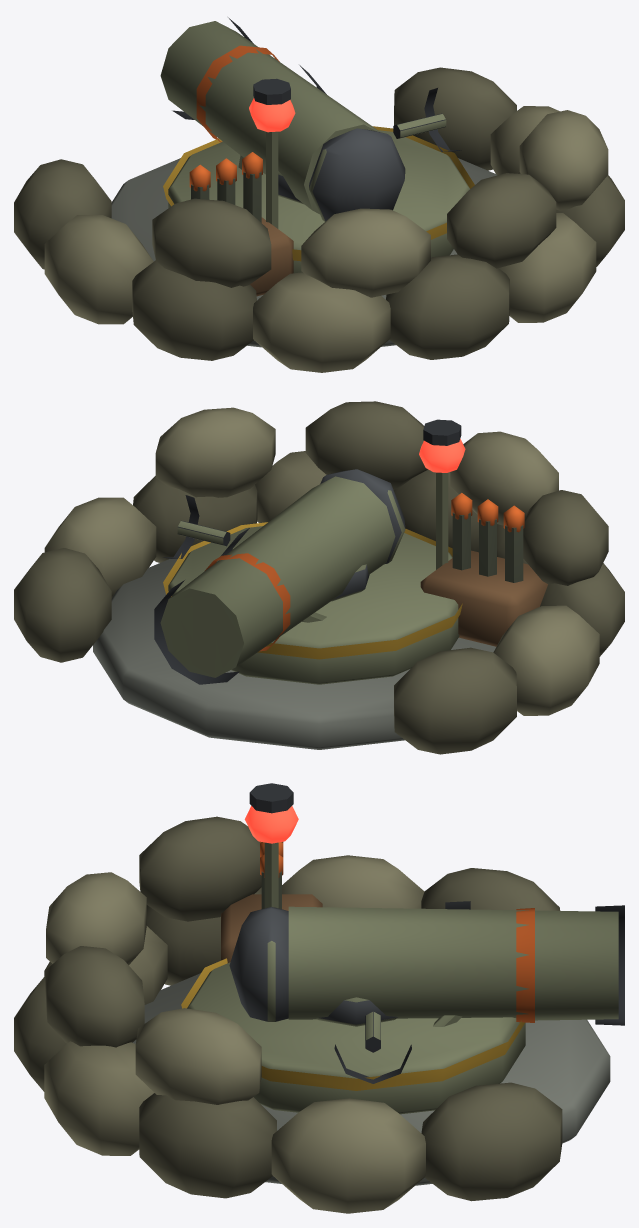
Rendered from mortar.glb.
The picture shows the model from 3 angles, top to bottom: view 1: azimuth 30°, elevation 25°; view 2: azimuth 150°, elevation 25°; view 3: azimuth 270°, elevation 25°; orthographic projection. The views are drawn at different scales.
Parts seen in each view (by area): view 1: mortar_body, mortar_tube, mortar_table, mortar_lamp; view 2: mortar_body, mortar_tube, mortar_table, mortar_lamp; view 3: mortar_body, mortar_tube, mortar_table, mortar_lamp.
Part boxes in pixels (x1,y1,x2,y2): mortar_body: [14, 67, 624, 372]; mortar_tube: [160, 17, 405, 221]; mortar_table: [163, 88, 474, 273]; mortar_lamp: [249, 78, 295, 132]; mortar_body: [14, 401, 624, 754]; mortar_tube: [154, 469, 405, 684]; mortar_table: [163, 472, 462, 684]; mortar_lamp: [419, 419, 465, 472]; mortar_body: [14, 816, 610, 1213]; mortar_tube: [229, 901, 624, 1026]; mortar_table: [181, 842, 525, 1114]; mortar_lamp: [244, 783, 298, 843].
Bounding box in the file's own units: 0.8091 × 0.325 × 0.7222.
Materials: 2 (1 with a texture image).
